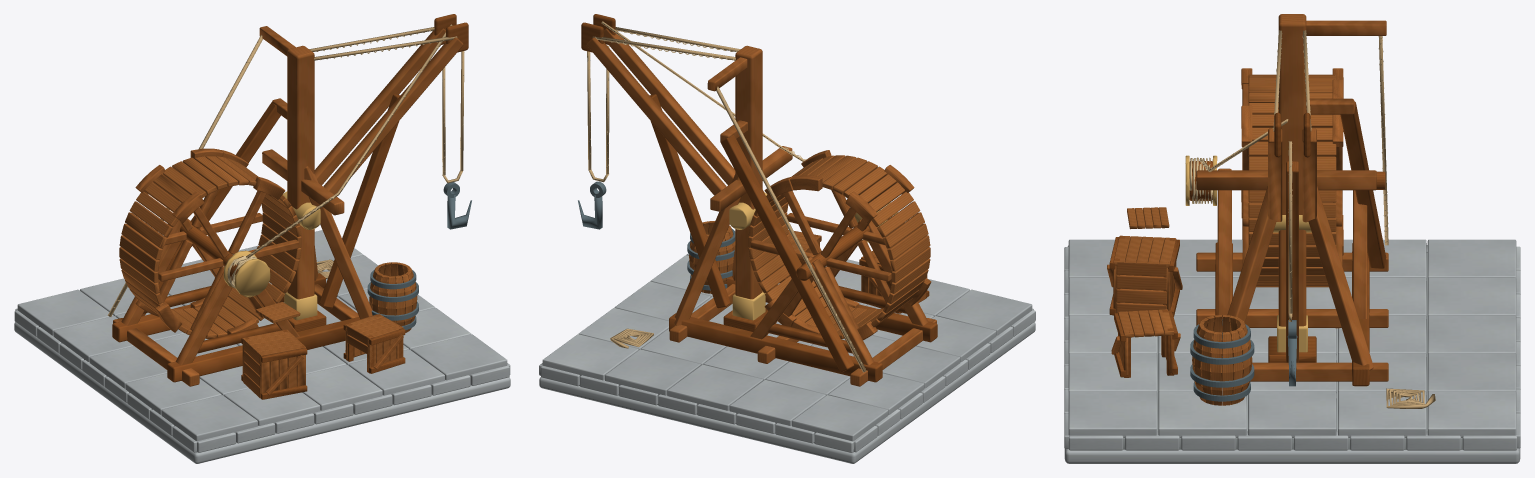
File: harbor_crane.glb
3 views of the same model, side by side, from view 1: azimuth 30°, elevation 25°; view 2: azimuth 150°, elevation 25°; view 3: azimuth 270°, elevation 25° (orthographic). The views are drawn at different scales.
Visible parts, largest first — view 1: Harbor_Treadwheel_Crane; view 2: Harbor_Treadwheel_Crane; view 3: Harbor_Treadwheel_Crane.
Part boxes in pixels (left/top/right/bottom): Harbor_Treadwheel_Crane: left=14, top=14, right=510, bottom=463; Harbor_Treadwheel_Crane: left=539, top=14, right=1035, bottom=463; Harbor_Treadwheel_Crane: left=1064, top=14, right=1520, bottom=463.
Bounding box in the file's own units: 8.14 × 6.35 × 7.02.
Materials: 7 (2 with a texture image).
